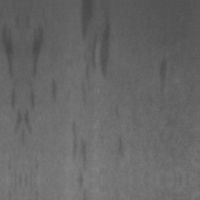inclusion: (24, 11, 55, 135), (71, 5, 101, 107), (96, 9, 117, 81), (69, 118, 89, 178), (153, 51, 174, 103), (46, 73, 61, 105), (113, 133, 129, 159)
